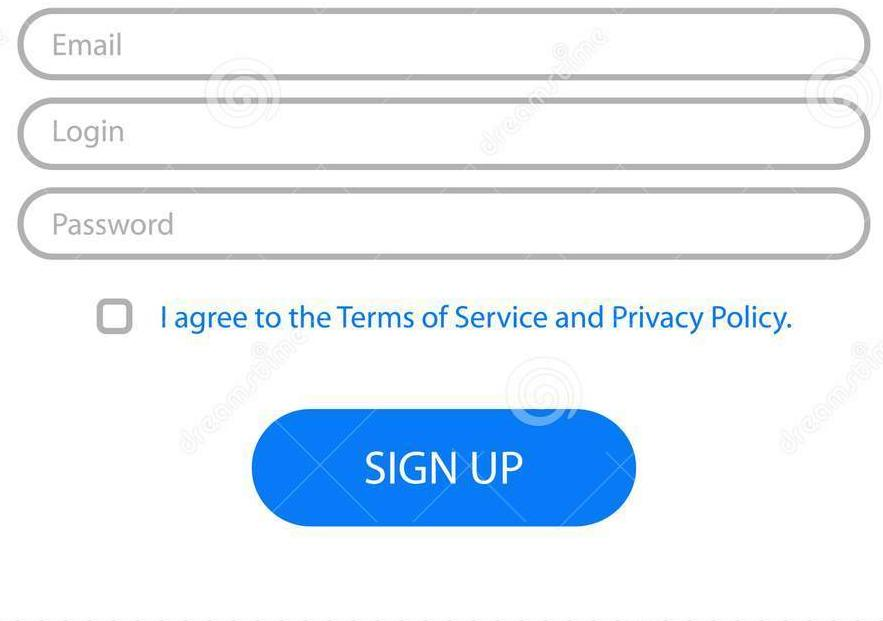button: (250, 407, 636, 530)
checkbox: (93, 293, 139, 340)
checkbox_with_label: (88, 288, 795, 343)
field: (16, 96, 872, 172), (17, 187, 872, 263), (16, 7, 869, 82)
